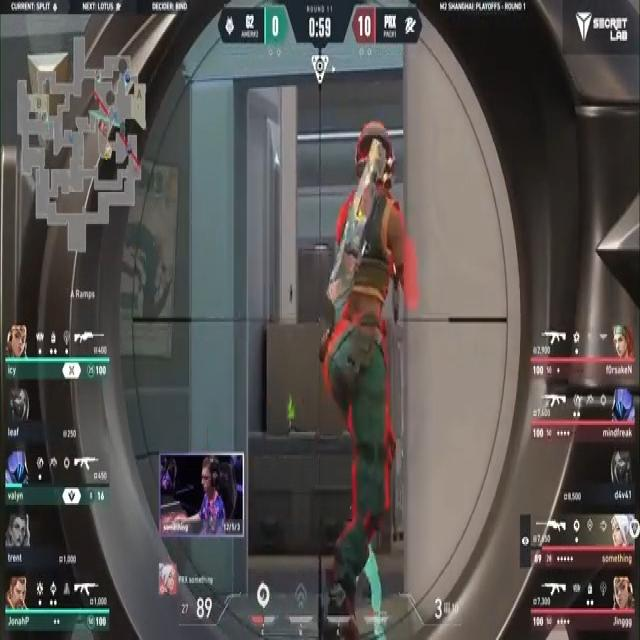enemy: (318, 109, 416, 626)
